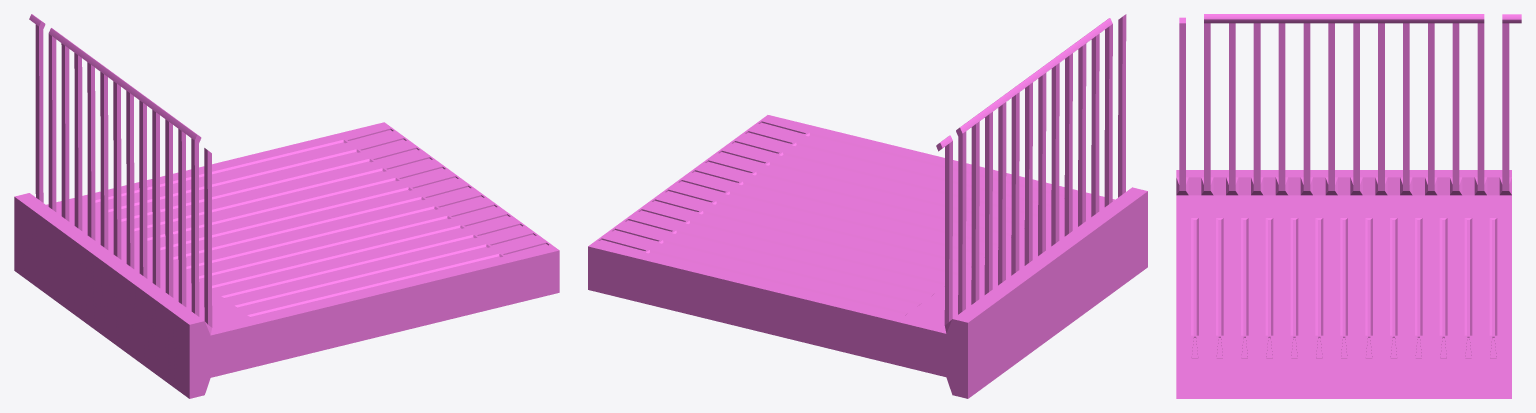
File: bridge2.fbx
3 views of the same model, side by side, from view 1: azimuth 30°, elevation 25°; view 2: azimuth 150°, elevation 25°; view 3: azimuth 270°, elevation 25° (orthographic). The views are drawn at different scales.
Visible parts, largest first — view 1: bridge068; view 2: bridge068; view 3: bridge068.
Boxes of the visible parts, x1=… form: bridge068: x1=14, y1=14, x2=559, y2=398; bridge068: x1=588, y1=14, x2=1147, y2=398; bridge068: x1=1176, y1=14, x2=1521, y2=398.
Bounding box in the file's own units: 72.05 × 46.13 × 60.74.
